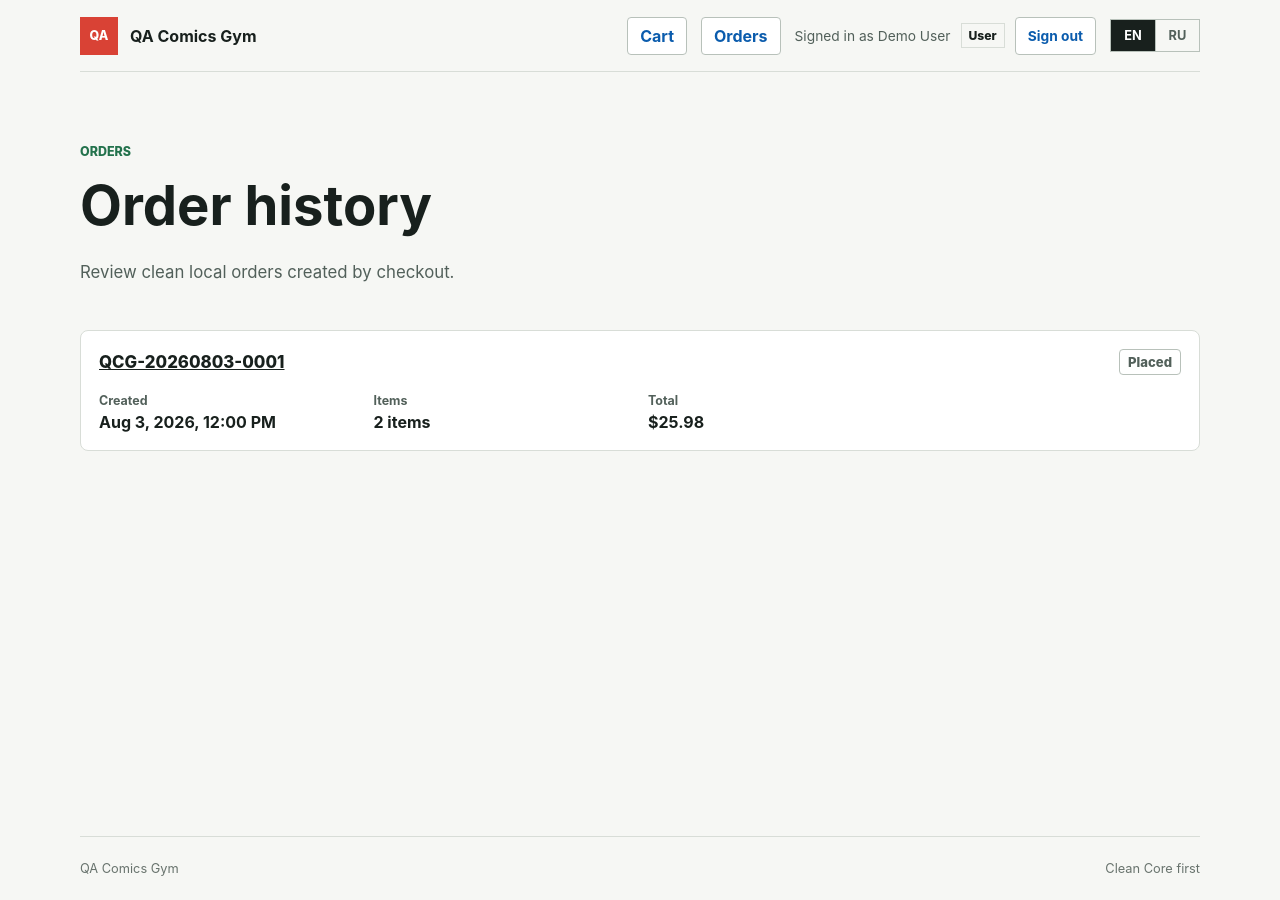
frontend checkout and order flow › renders populated order history and order detail links
The width and height of the screenshot is (1280, 900).
expect the list item with test id "order-card--QCG-20260803-0001" is shown: met, box [80, 330, 1200, 451]
Click the link "QCG-20260803-0001" at x=192, y=362, box [99, 352, 284, 372]
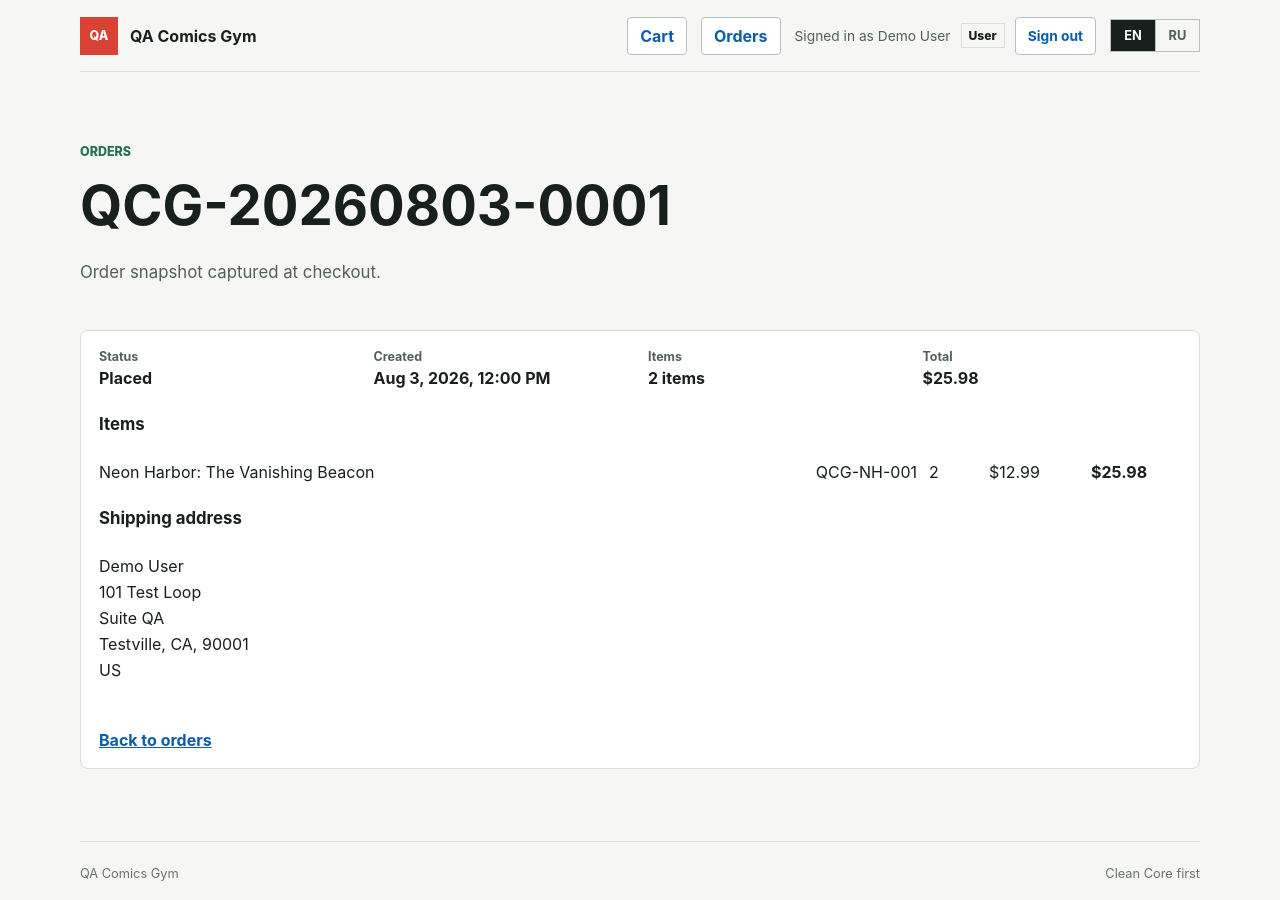
expect the list item with test id "order-line--neon-harbor-1" is shown: met, box [99, 462, 1181, 482]
expect the text "$25.98" is shown 2 times: met, box [922, 368, 979, 388]; [1091, 462, 1147, 482]
